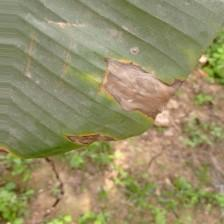cordana: (0, 0, 224, 160)
